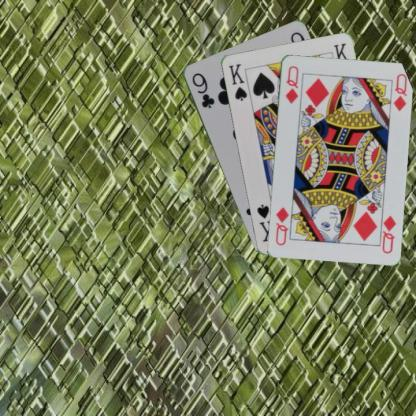9c: (189, 70, 215, 110)
Ks: (226, 61, 248, 102)
Qd: (376, 210, 397, 255), (282, 63, 300, 105)
